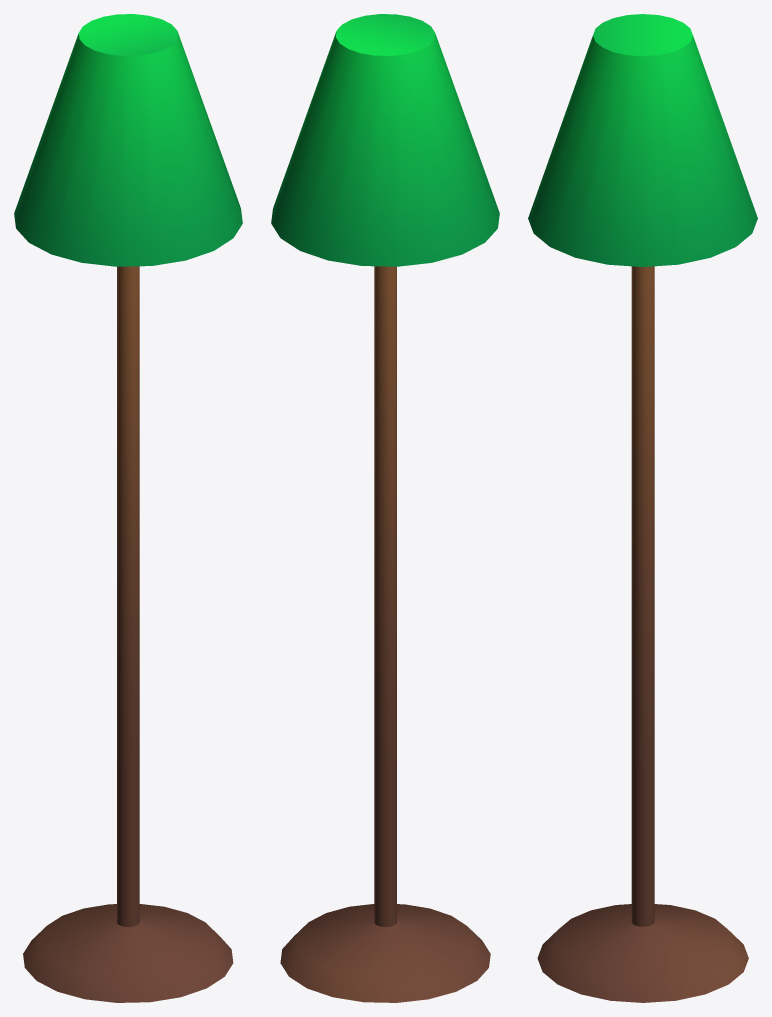
The model's file is Lamp.FBX.
3 renders of one model, left to right at view 1: azimuth 30°, elevation 25°; view 2: azimuth 150°, elevation 25°; view 3: azimuth 270°, elevation 25°, orthographic.
Parts seen in each view (by area): view 1: Lamp; view 2: Lamp; view 3: Lamp.
Boxes of the visible parts, <box> form: Lamp: <box>14,14,242,1002</box>; Lamp: <box>271,14,499,1002</box>; Lamp: <box>528,14,757,1002</box>.
Size of the model in its own units: 34.43 by 153 by 34.43.
Materials: 1 (1 with a texture image).
